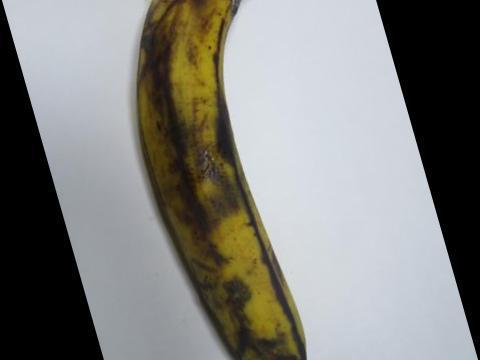overripe: (119, 0, 319, 359)
